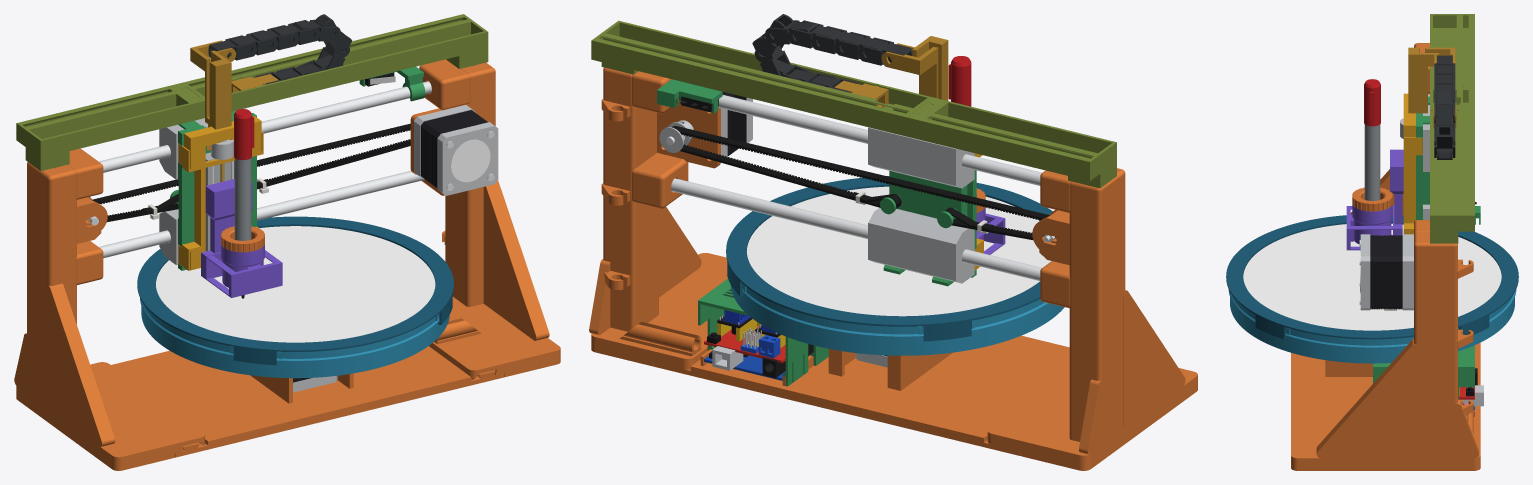
Rendered from plotter-v3.glb.
3 views of the same model, side by side, from view 1: azimuth 30°, elevation 25°; view 2: azimuth 150°, elevation 25°; view 3: azimuth 270°, elevation 25° (orthographic). The views are drawn at different scales.
Parts seen in each view (by area): view 1: stand_left, paper__sheet, stand_right, frame_base, tray_right, clamp_ring, tray_left, wheel, rods, pen_head, chain_links, carriage2_frame (+12 smaller); view 2: stand_left, stand_right, frame_base, paper__sheet, tray_right, blocks, tray_left, wheel, clamp_ring, rods, x_belt__belt, chain_links (+10 smaller); view 3: stand_right, paper__sheet, clamp_ring, tray_right, wheel, frame_base, x_motor__body, pen_head, tray_left, chain_links, carriage2_frame, x_motor__caps (+9 smaller).
Boxes of the visible parts, x1,y1,x2,y2 form: stand_left: (14,148,204,470); paper__sheet: (156,226,435,342); stand_right: (410,59,560,379); frame_base: (111,346,504,457); tray_right: (175,14,488,119); clamp_ring: (137,216,453,365); tray_left: (16,84,199,170); wheel: (140,298,449,378); rods: (99,81,431,258); pen_head: (201,179,282,297); chain_links: (208,14,352,84); carriage2_frame: (178,116,263,270); stand_left: (987,168,1197,470); stand_right: (589,67,727,369); frame_base: (654,335,1069,455); paper__sheet: (746,186,1051,316); tray_right: (591,20,940,138); blocks: (868,127,974,283); tray_left: (913,99,1116,188); wheel: (730,284,1064,355); clamp_ring: (726,176,1052,341); rods: (671,95,1041,280); x_belt__belt: (672,126,1049,239); chain_links: (752,14,912,92); stand_right: (1291,220,1480,470); paper__sheet: (1243,223,1501,330); clamp_ring: (1226,215,1518,339); tray_right: (1430,85,1474,243); wheel: (1228,289,1516,363); frame_base: (1291,342,1480,418); x_motor__body: (1370,235,1402,309); pen_head: (1346,149,1403,250); tray_left: (1430,14,1474,88); chain_links: (1434,55,1455,159); carriage2_frame: (1403,93,1422,234); x_motor__caps: (1360,234,1413,310).
Bounding box in the file's own units: 340 × 234 × 208.
